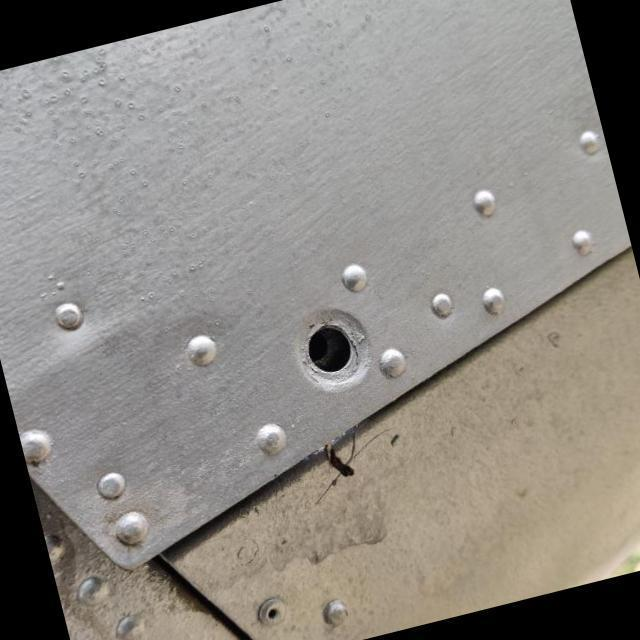Fastener Damage: (234, 253, 442, 452)
